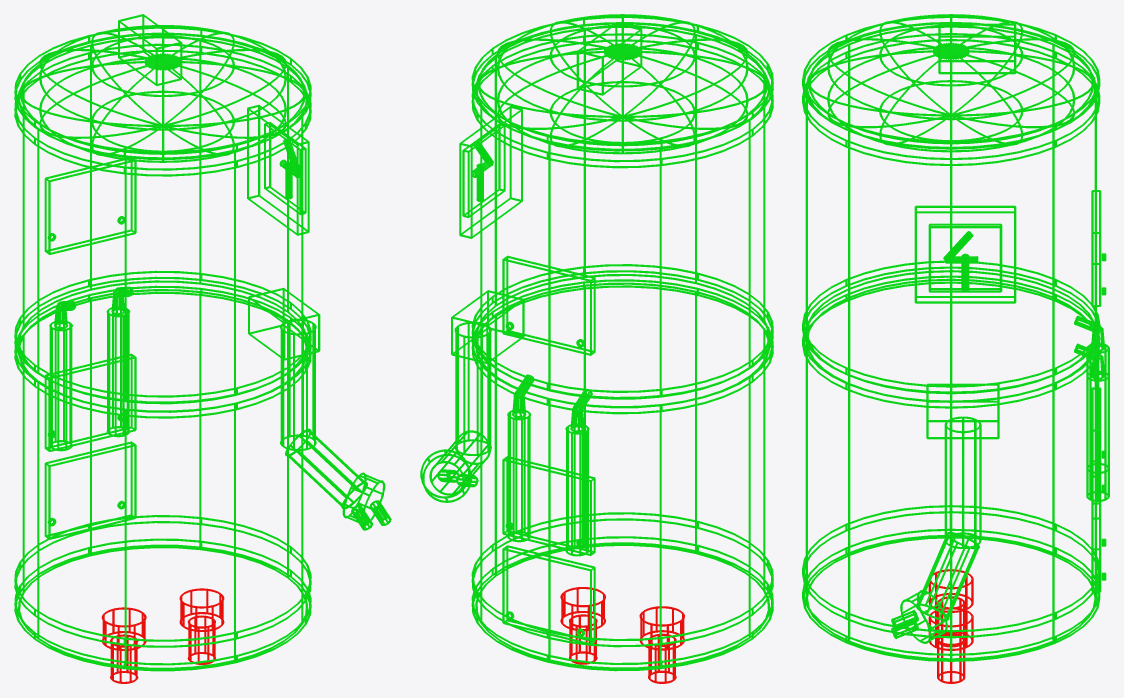
The model's file is hi-energy-power-stores-highlight-power-terminals.glb.
The picture shows the model from 3 angles, left to right: view 1: azimuth 30°, elevation 25°; view 2: azimuth 150°, elevation 25°; view 3: azimuth 270°, elevation 25°; orthographic projection.
Parts seen in each view (by area): view 1: chassis technical wire, probe-input-arms technical wire, cooling-cylinders technical wire, power-terminals technical wire; view 2: chassis technical wire, cooling-cylinders technical wire, probe-input-arms technical wire, power-terminals technical wire; view 3: chassis technical wire, probe-input-arms technical wire, cooling-cylinders technical wire, power-terminals technical wire.
Part boxes in pixels (box(x1,y1,x2,y2)): chassis technical wire: box(14, 14, 311, 671); probe-input-arms technical wire: box(248, 287, 391, 530); cooling-cylinders technical wire: box(49, 286, 133, 451); power-terminals technical wire: box(101, 588, 224, 683); chassis technical wire: box(459, 14, 773, 671); cooling-cylinders technical wire: box(507, 374, 592, 556); probe-input-arms technical wire: box(420, 290, 524, 502); power-terminals technical wire: box(560, 587, 684, 683); chassis technical wire: box(802, 14, 1106, 661); probe-input-arms technical wire: box(891, 383, 999, 643); cooling-cylinders technical wire: box(1074, 315, 1109, 501); power-terminals technical wire: box(928, 569, 973, 683).
Size of the model in its own units: 1.66 by 2.94 by 1.3.
